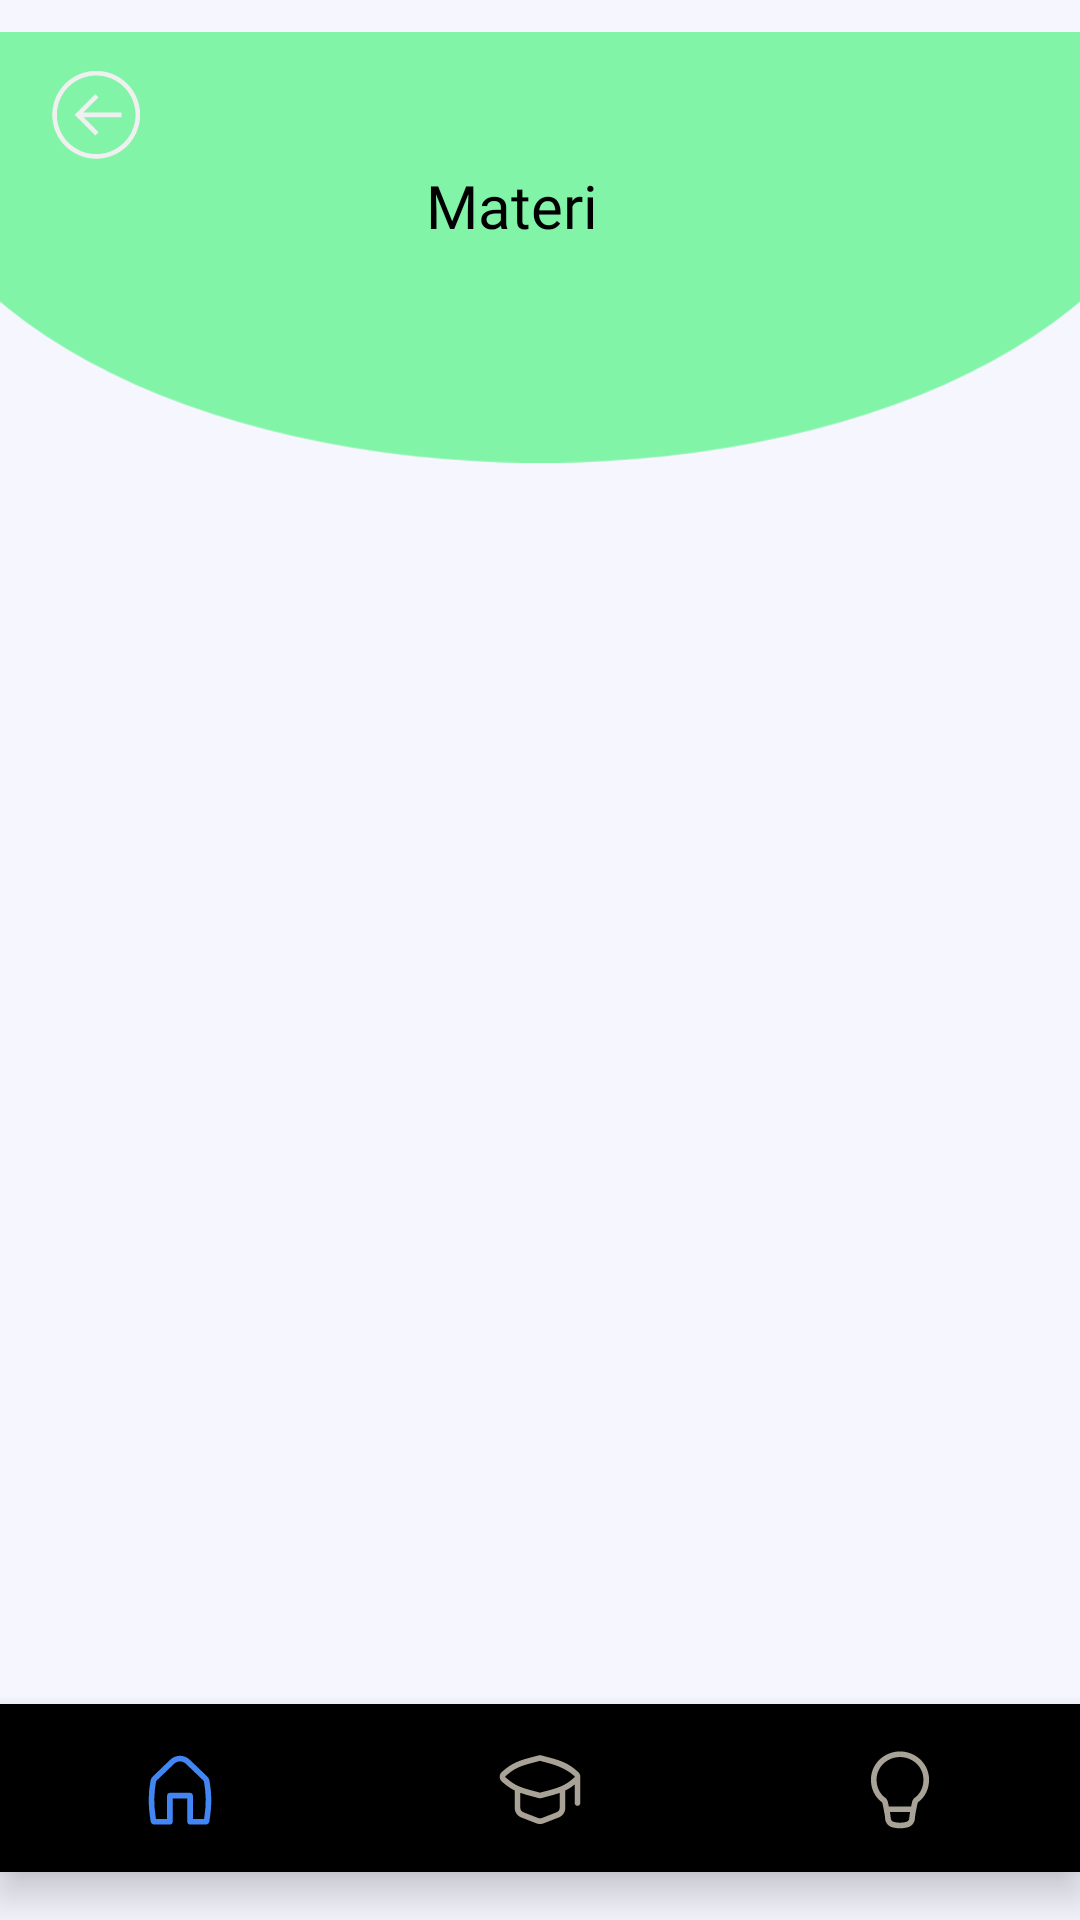

Icons on this 1080x1920 Android screen, each with its box as (x1, y1, x2, y2):
back: (52, 71, 140, 159)
